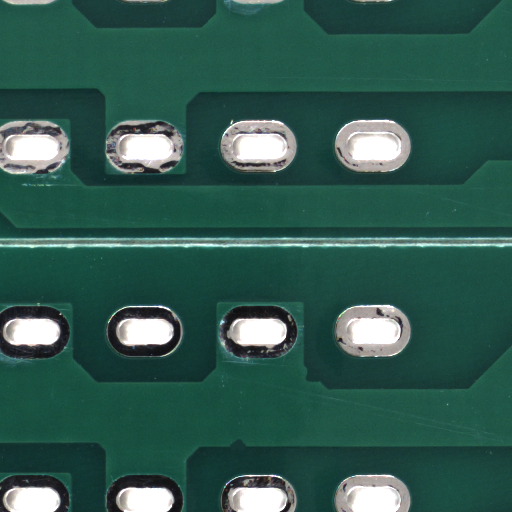Mouse_bite: (313, 375, 330, 389), (238, 443, 255, 453)
